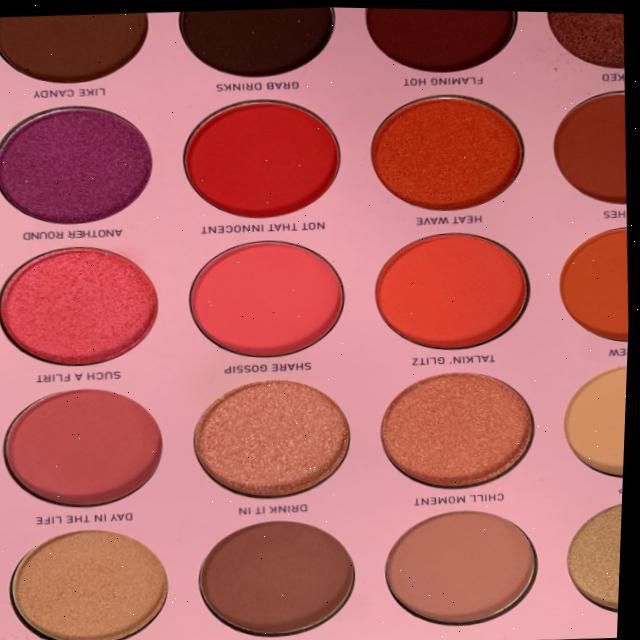blush: (0, 201, 634, 390), (0, 373, 177, 525)
bronzer: (0, 484, 579, 640)
eye shade: (0, 0, 634, 251)
highlighter: (169, 354, 549, 503)
